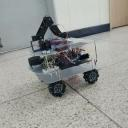cart: (28, 37, 100, 97)
